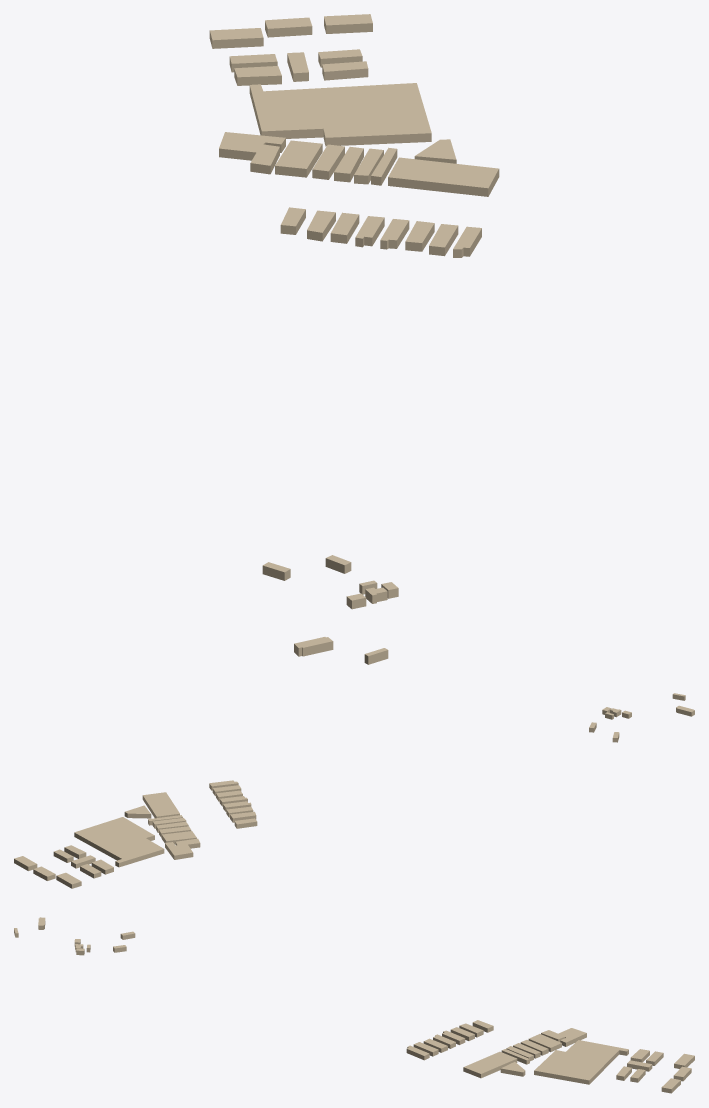
File: overview-estimated--4_7.glb
3 renders of one model, top to bottom at view 1: azimuth 30°, elevation 25°; view 2: azimuth 150°, elevation 25°; view 3: azimuth 270°, elevation 25°, orthographic. The views are drawn at different scales.
Size of the model in its own units: 1019 by 12.23 by 1708.
